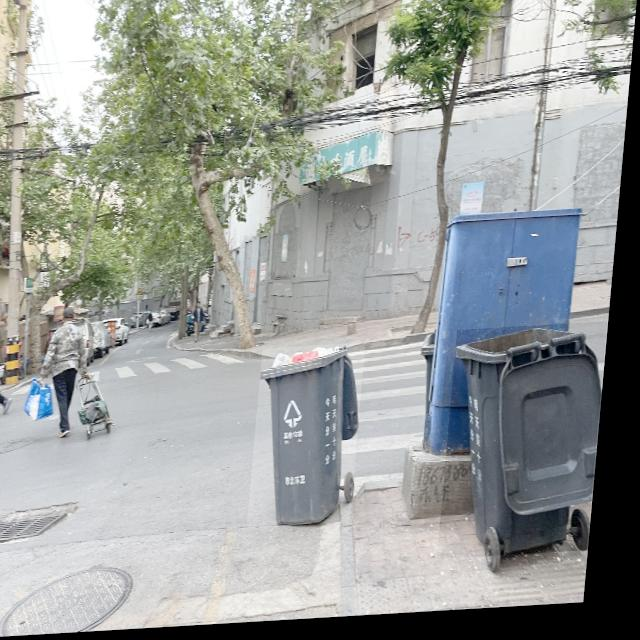garbage_bin: (448, 329, 614, 565)
overflow: (257, 347, 372, 532)
